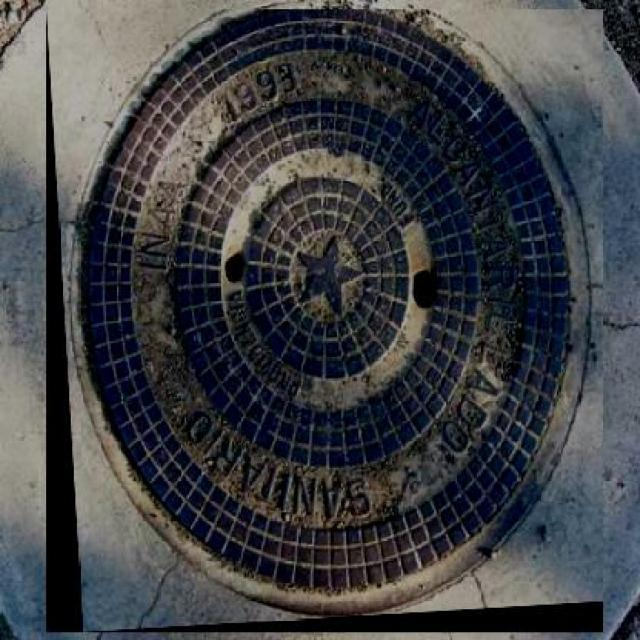Manhole: (46, 10, 603, 632)
